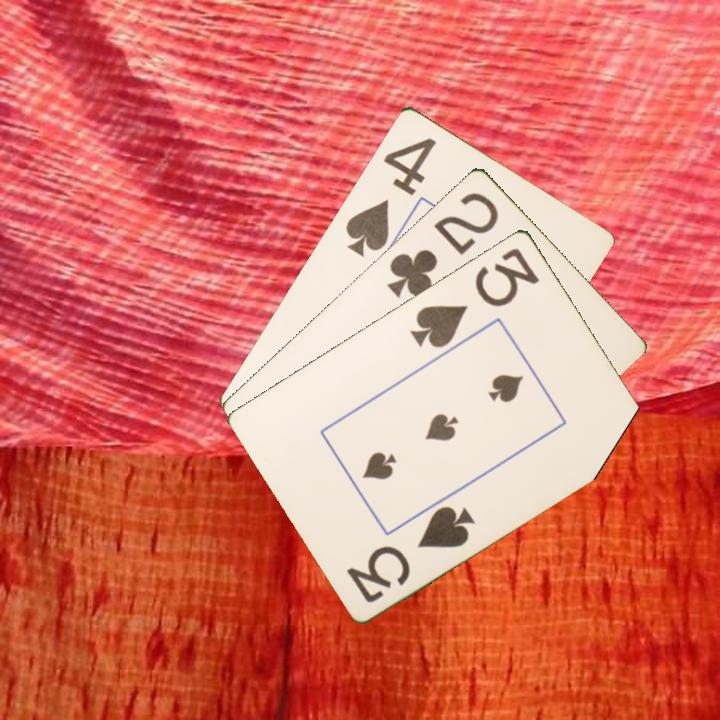2c: (383, 188, 502, 300)
3s: (406, 243, 543, 351), (343, 501, 478, 606)
4s: (341, 133, 439, 259)
